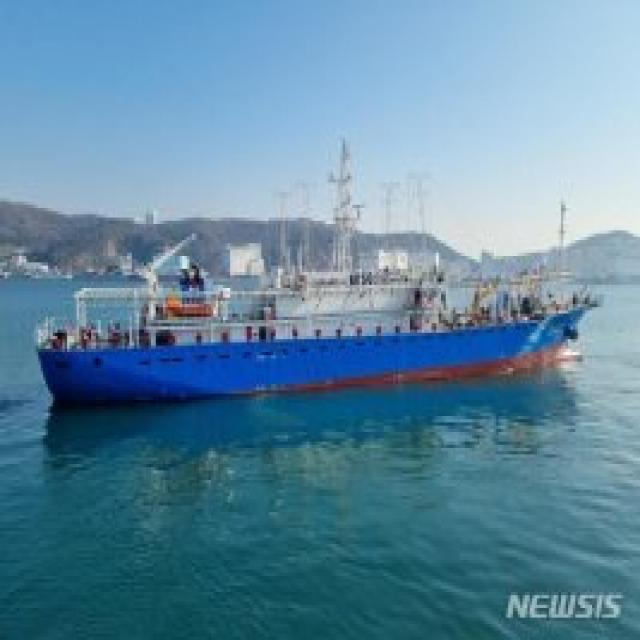Ship: (27, 132, 627, 427)
